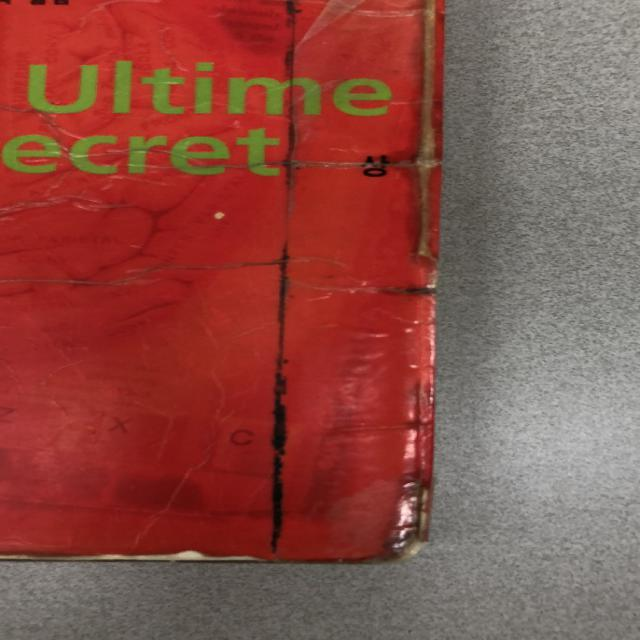Ripped: (411, 0, 440, 267), (357, 482, 437, 567)
Wornout: (0, 540, 274, 570)
